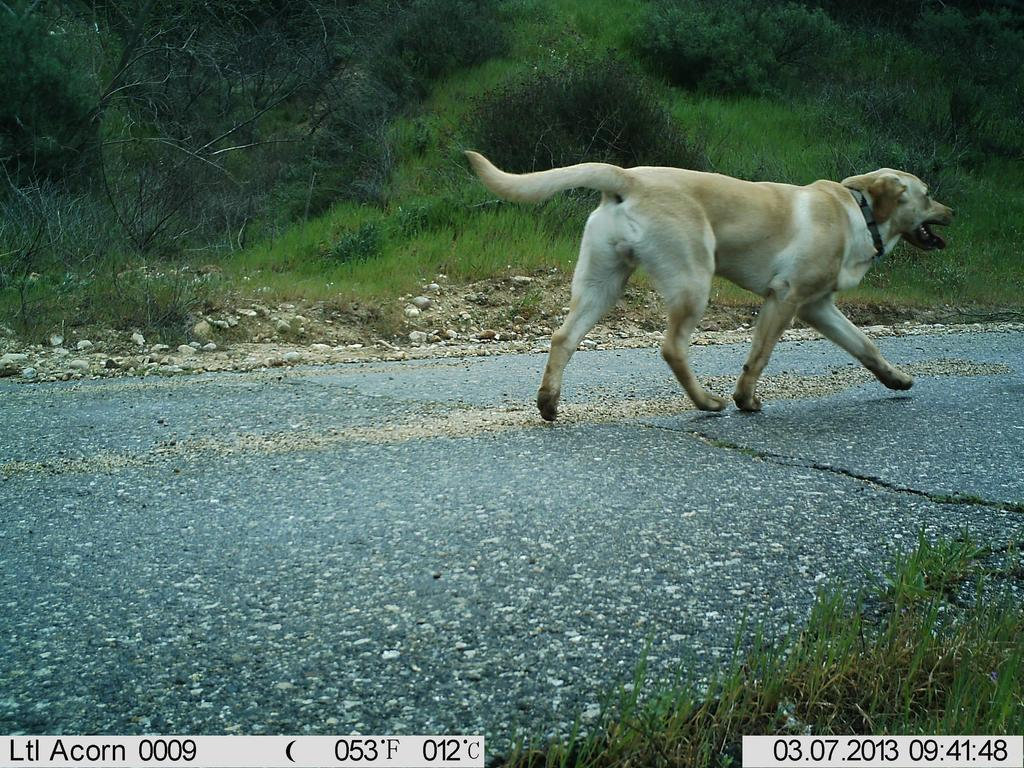dog: (452, 143, 962, 436)
